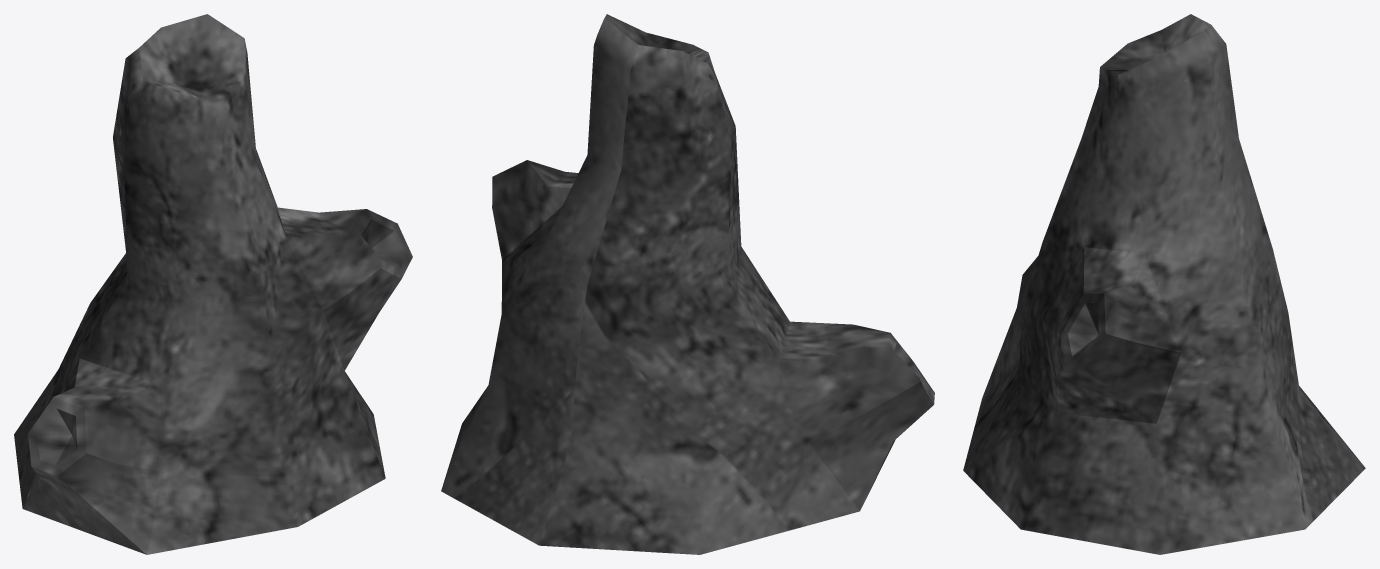
The model's file is Fumeral_01.fbx.
The picture shows the model from 3 angles, left to right: view 1: azimuth 30°, elevation 25°; view 2: azimuth 150°, elevation 25°; view 3: azimuth 270°, elevation 25°; orthographic projection. The views are drawn at different scales.
Visible parts, largest first — view 1: polySurface1; view 2: polySurface1; view 3: polySurface1.
Part boxes in pixels (x1=…): polySurface1: x1=14, y1=14, x2=412, y2=554; polySurface1: x1=441, y1=14, x2=934, y2=554; polySurface1: x1=963, y1=14, x2=1365, y2=554.
Bounding box in the file's own units: 52.58 × 54.56 × 44.63.
